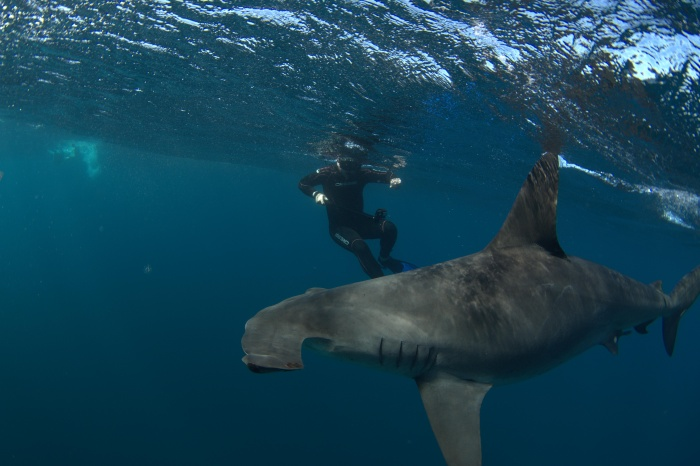Hammer: (198, 131, 700, 458)
